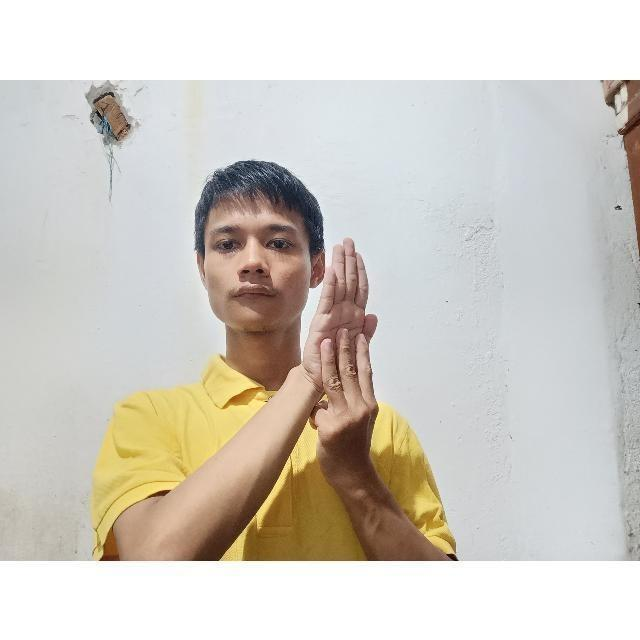M: (302, 225, 388, 412)
